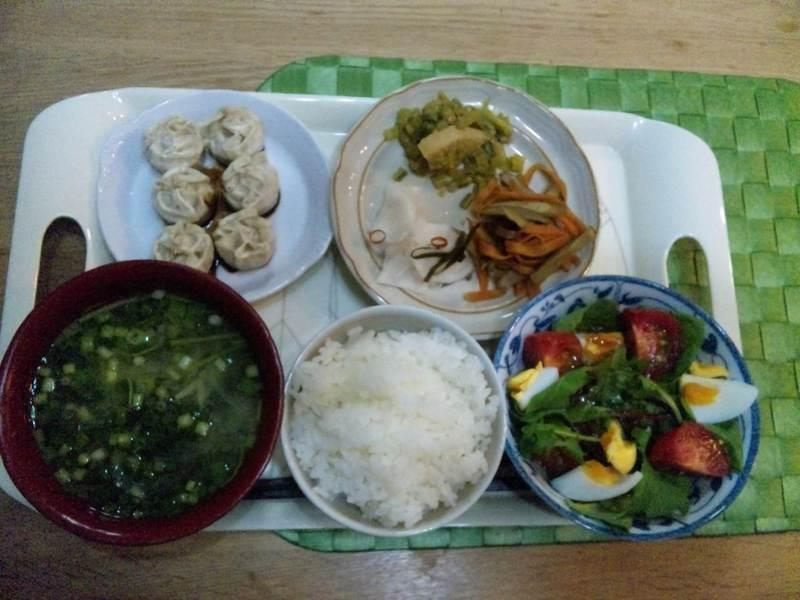plate: (97, 90, 332, 302)
rice: (288, 328, 496, 526)
